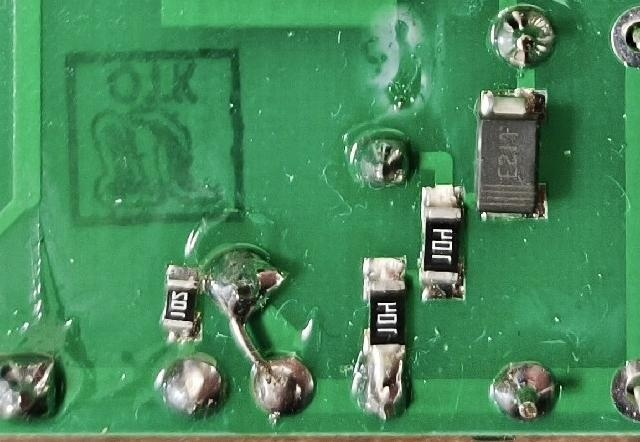chip-resistor: (359, 252, 409, 381), (415, 180, 466, 303), (160, 263, 202, 342)
diode: (470, 83, 550, 223)
